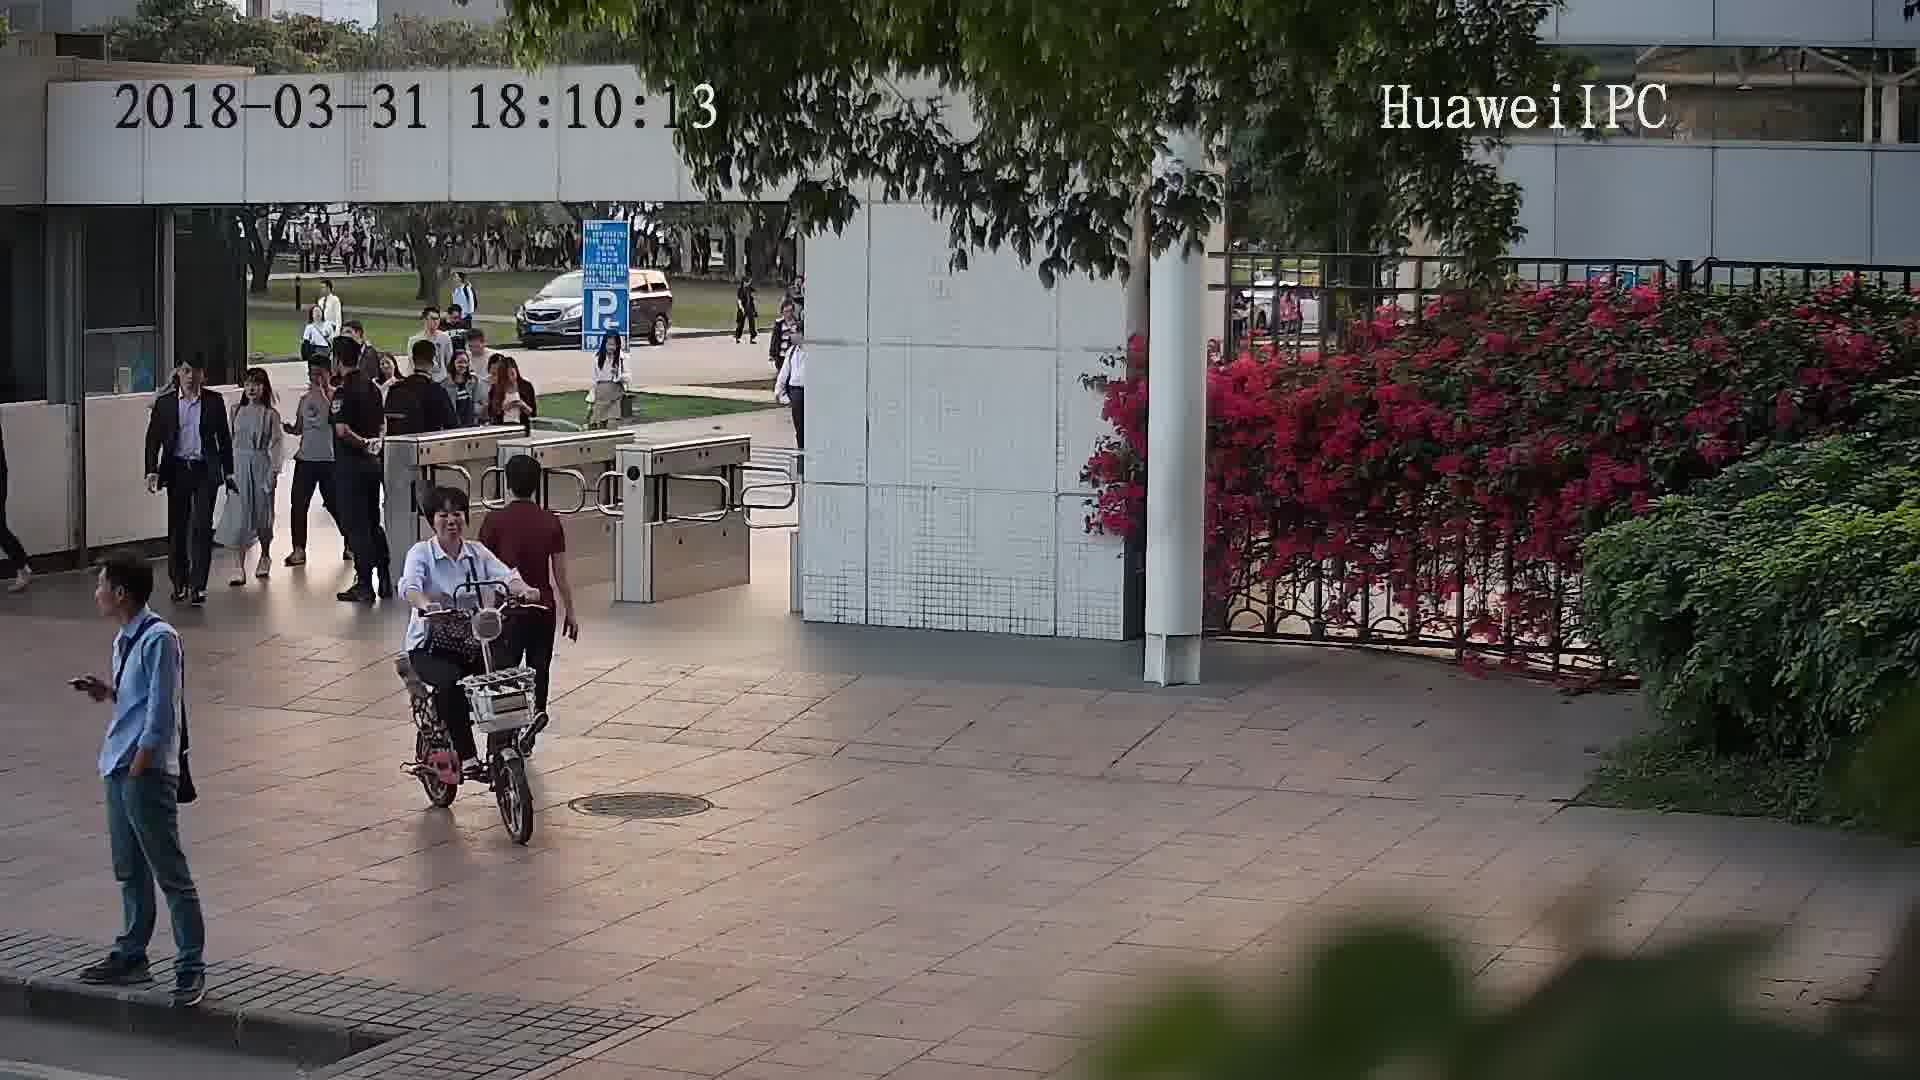face: (87, 563, 134, 625), (425, 507, 473, 547)
person: (95, 555, 182, 667), (409, 485, 492, 575), (489, 451, 561, 536), (156, 351, 215, 414), (392, 338, 449, 401), (232, 360, 283, 421), (326, 335, 374, 398), (296, 354, 341, 412), (441, 345, 484, 395), (488, 355, 533, 401), (409, 303, 451, 349), (463, 325, 505, 368), (368, 349, 411, 388), (301, 299, 334, 337), (598, 327, 628, 365), (315, 273, 344, 309)
